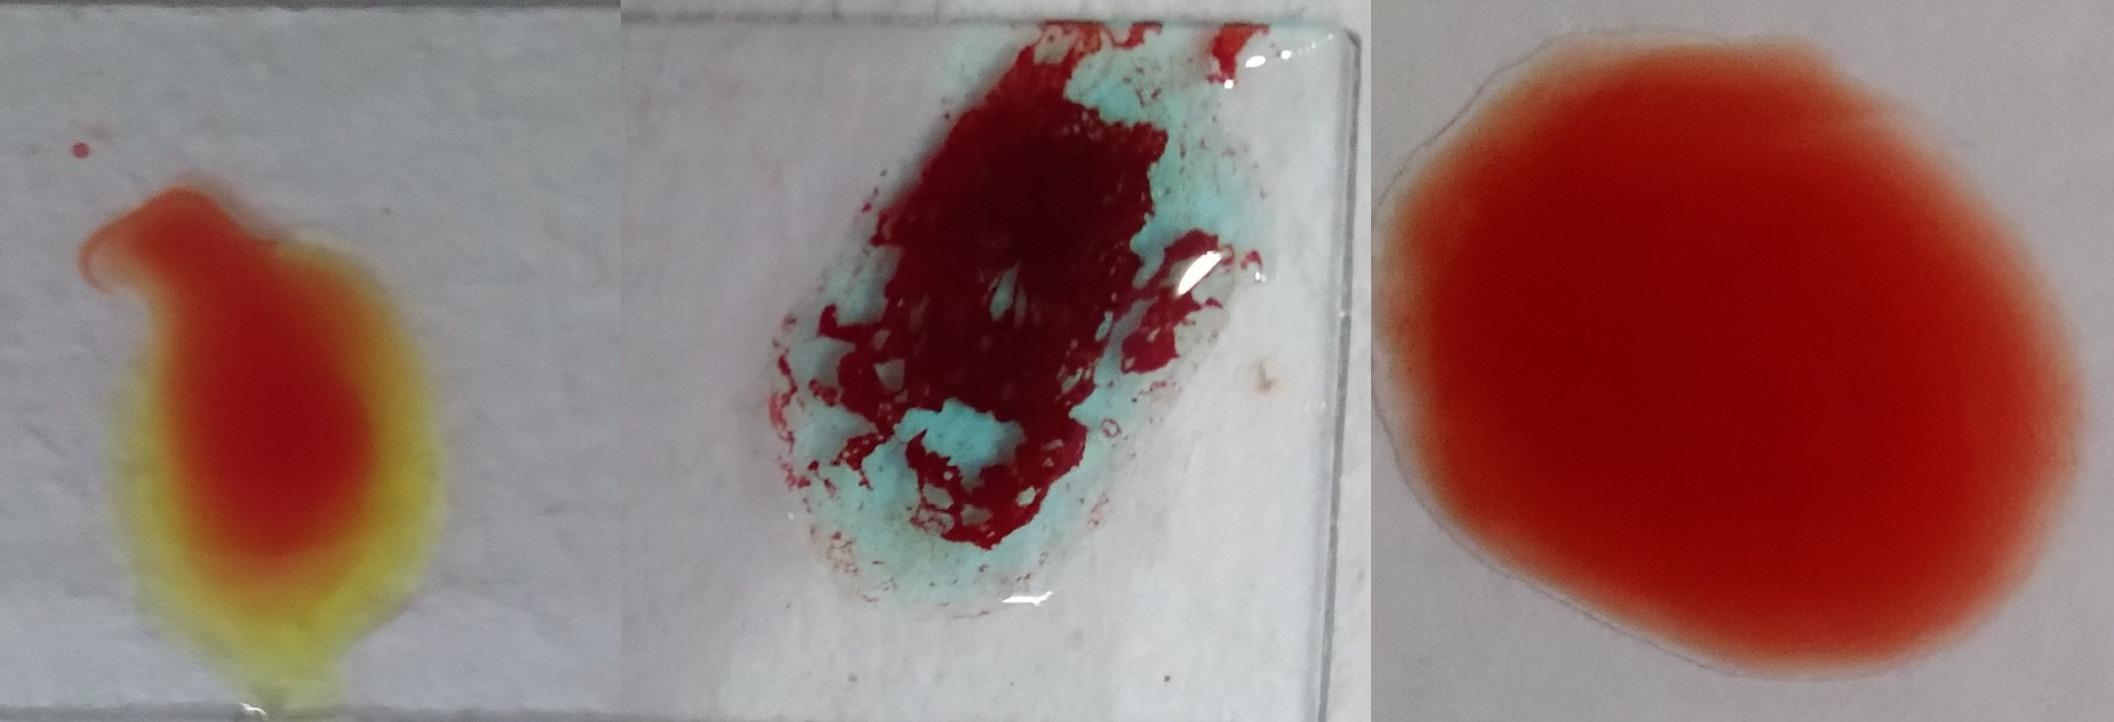A: (744, 0, 1246, 624)
